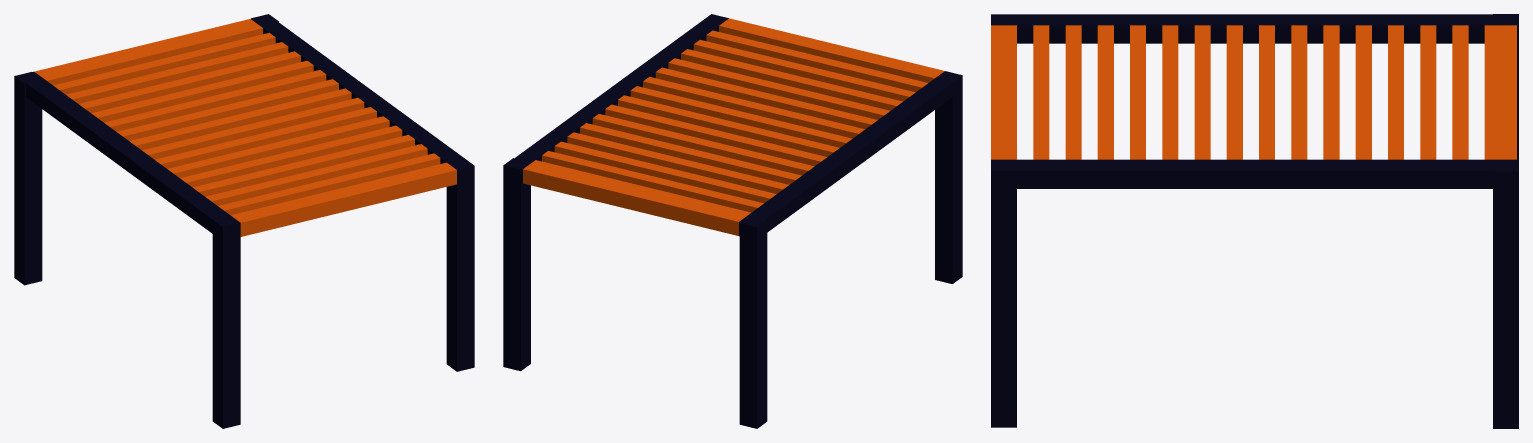
File: RooftoppCover.fbx
3 renders of one model, left to right at view 1: azimuth 30°, elevation 25°; view 2: azimuth 150°, elevation 25°; view 3: azimuth 270°, elevation 25°, orthographic. The views are drawn at different scales.
Parts seen in each view (by area): view 1: Cube; view 2: Cube; view 3: Cube.
Boxes of the visible parts, x1,y1,x2,y2 form: Cube: (14, 14, 474, 428); Cube: (503, 14, 962, 428); Cube: (991, 14, 1518, 428).
Bounding box in the file's own units: 985 × 748 × 1390.
